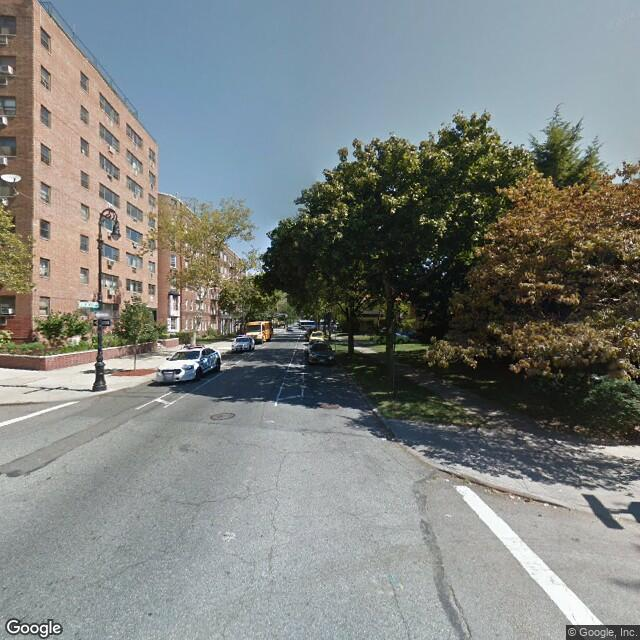litter: (427, 460, 563, 512)
